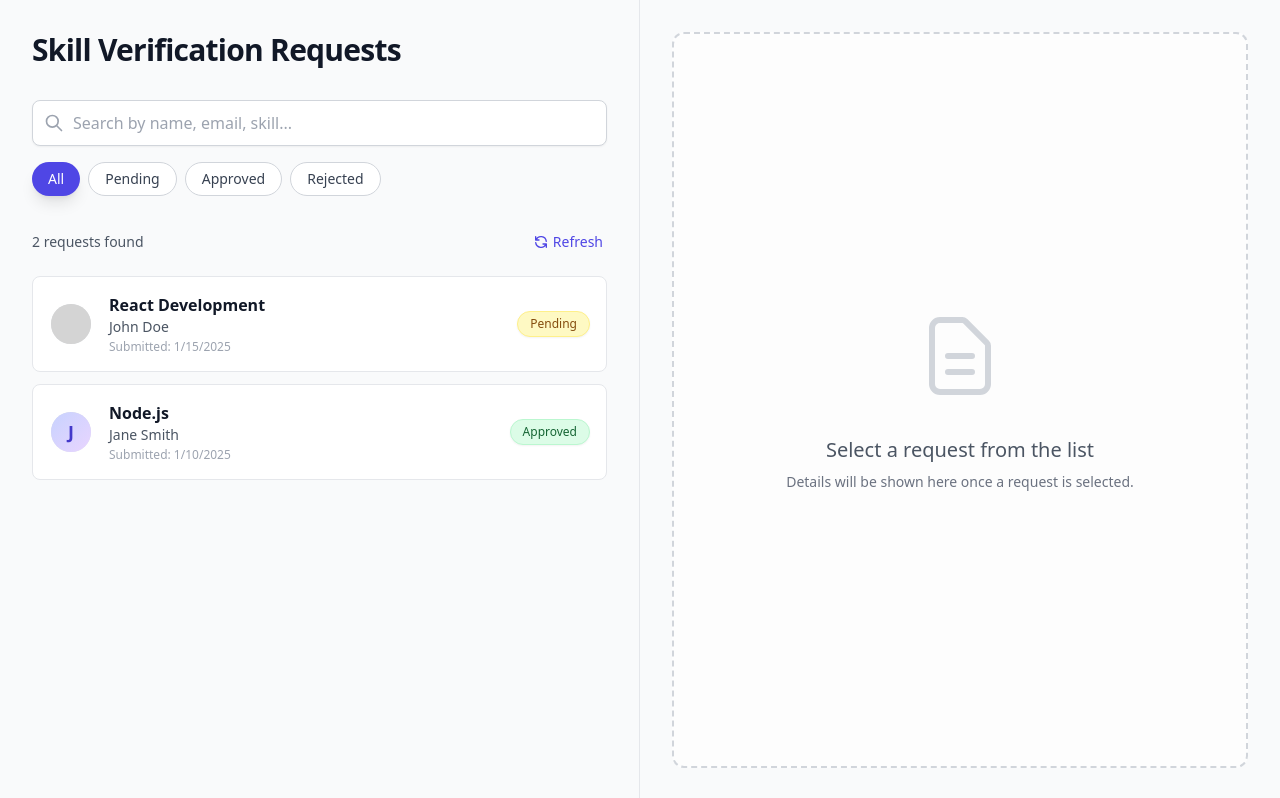
VerificationRequests Component › displays request details when clicked
Expected: the heading "React Development" is shown, [109,293,265,317]
Click the text "React Development".
click(187, 305)  # box [109,293,265,355]
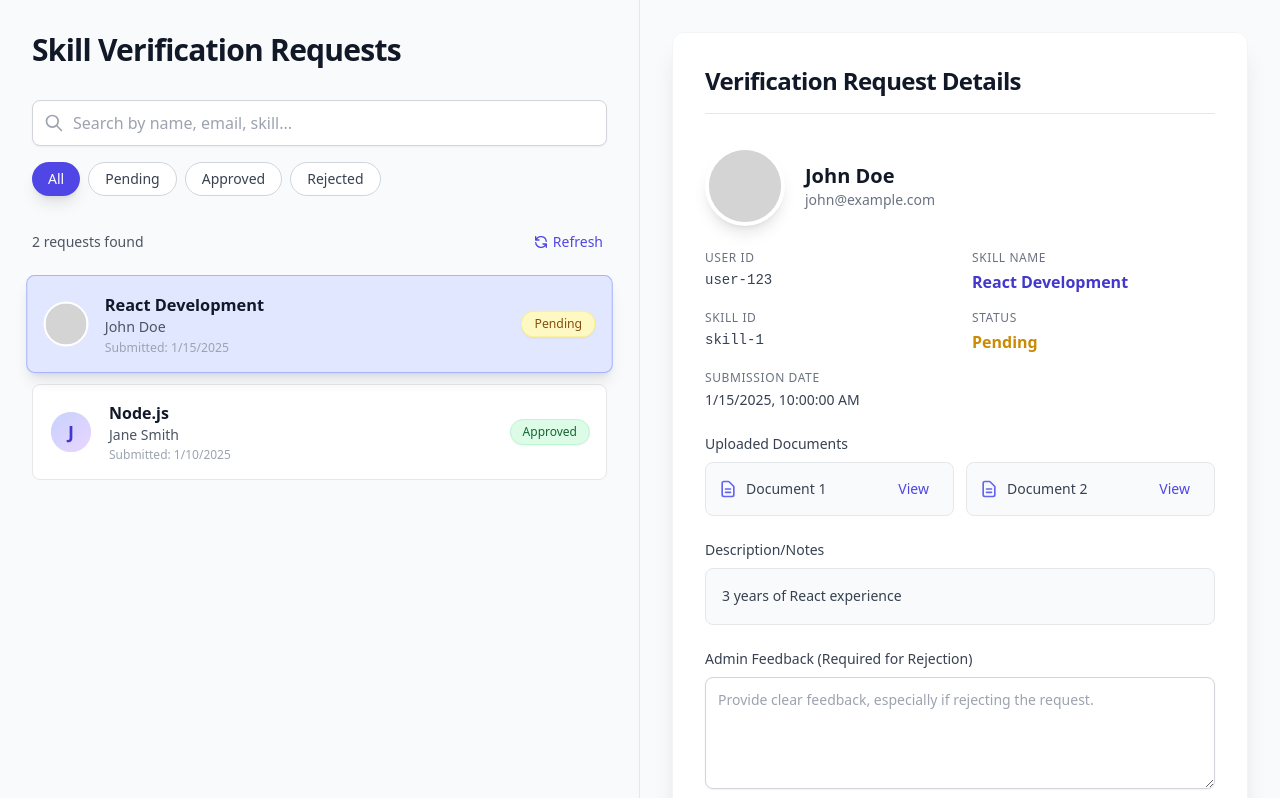
Expected: the heading "Verification Request Details" is shown, [705,65,1215,114]
Expected: the heading "John Doe" is shown, [805,162,894,189]
Expected: the text "3 years of React experience" is shown, [705,568,1215,625]
